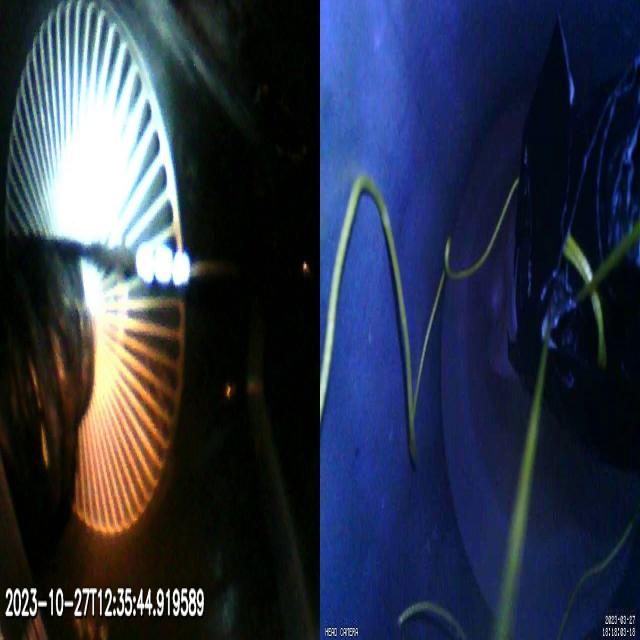white-dots: (134, 239, 190, 291)
